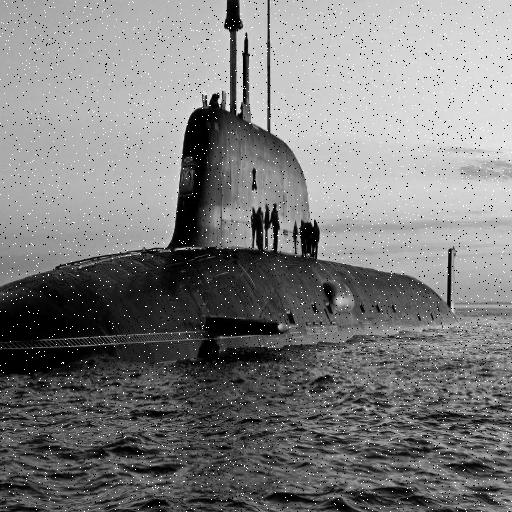submarine: (1, 1, 466, 386)
